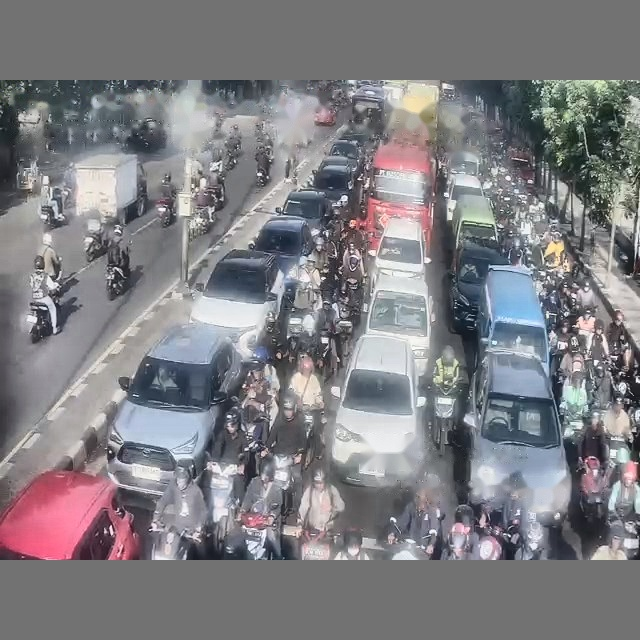Mobil: (106, 323, 245, 495), (464, 349, 571, 525), (328, 334, 425, 485), (0, 470, 140, 559), (190, 249, 284, 335), (365, 275, 433, 378), (447, 239, 507, 332), (249, 214, 313, 299), (369, 218, 429, 291), (275, 189, 331, 233), (444, 174, 484, 221), (311, 165, 354, 208), (309, 156, 361, 184), (125, 118, 167, 151), (327, 139, 363, 172), (509, 152, 534, 190), (317, 156, 356, 177), (340, 127, 371, 149), (314, 105, 336, 125)
Motor: (207, 462, 237, 552), (579, 456, 607, 527), (431, 384, 457, 455), (150, 526, 198, 559), (26, 300, 52, 343), (300, 528, 333, 560), (83, 220, 106, 262), (105, 264, 127, 300), (189, 207, 210, 239), (39, 204, 65, 229), (156, 198, 174, 227), (256, 168, 268, 187)
Truk: (75, 153, 147, 225)
